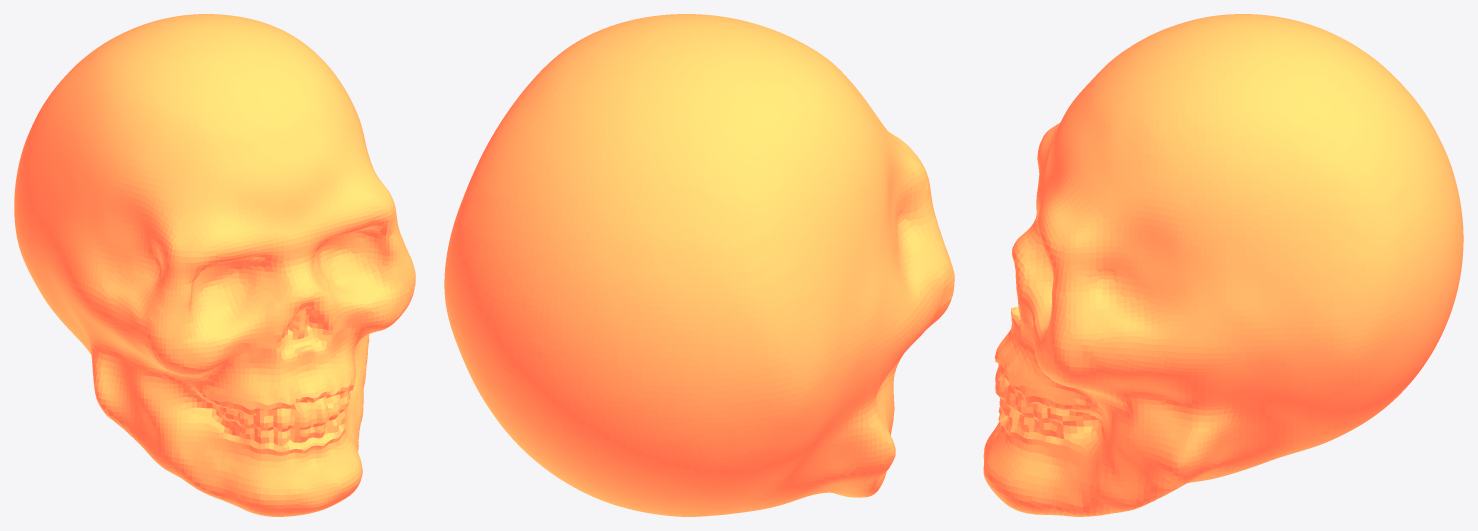
File: skellyHottest.glb
The picture shows the model from 3 angles, left to right: view 1: azimuth 30°, elevation 25°; view 2: azimuth 150°, elevation 25°; view 3: azimuth 270°, elevation 25°; orthographic projection. The views are drawn at different scales.
Visible parts, largest first — view 1: skull; view 2: skull; view 3: skull.
Boxes of the visible parts, x1,y1,x2,y2 form: skull: [14, 14, 415, 516]; skull: [444, 14, 954, 516]; skull: [983, 14, 1463, 516].
Bounding box in the file's own units: 1.71 × 2.24 × 2.12.
